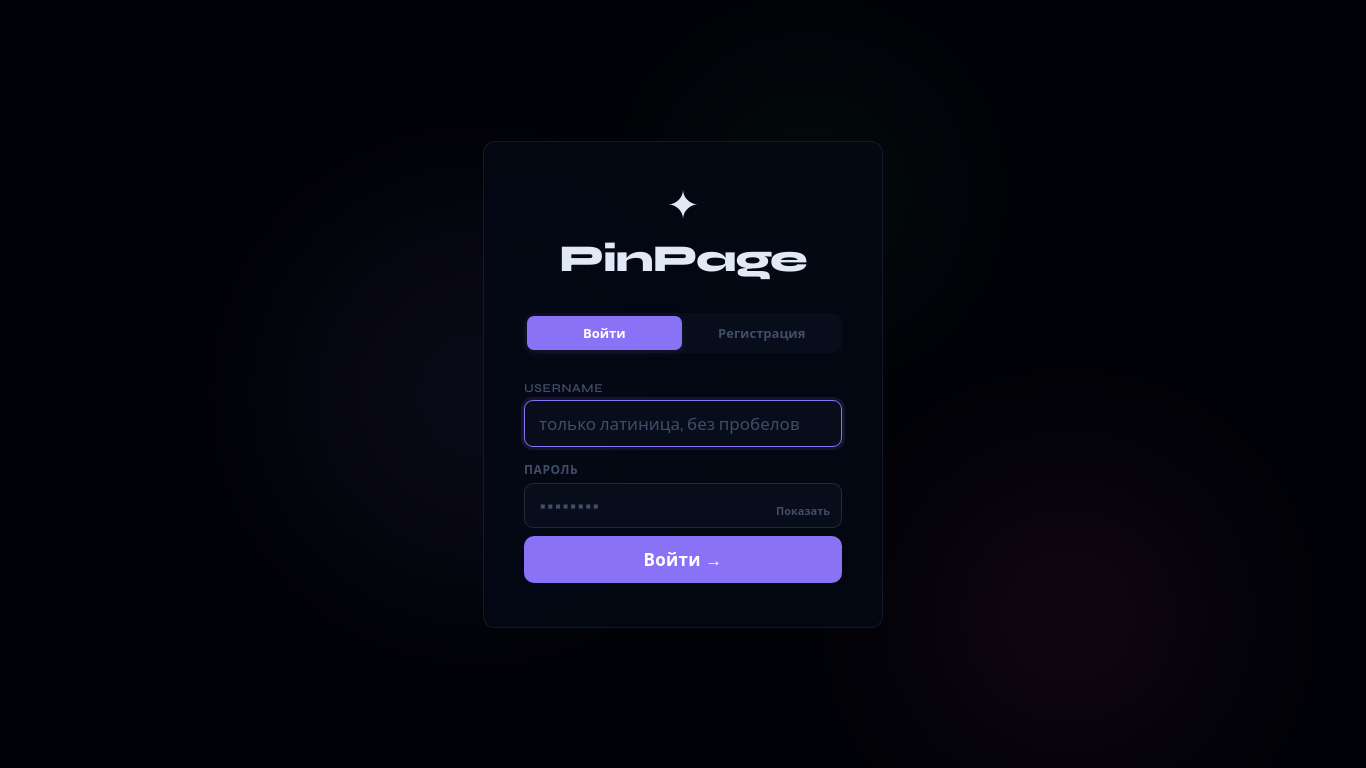
Scenario: вход и регистрация › вход с верным паролем открывает стену
The image size is (1366, 768).
Check: the button "Войти →" is shown, box x1=524 y1=536 x2=842 y2=582
Type "nova" into the field with placeholder "только латиница, без пробелов" at (683, 423), box x1=524 y1=400 x2=842 y2=446
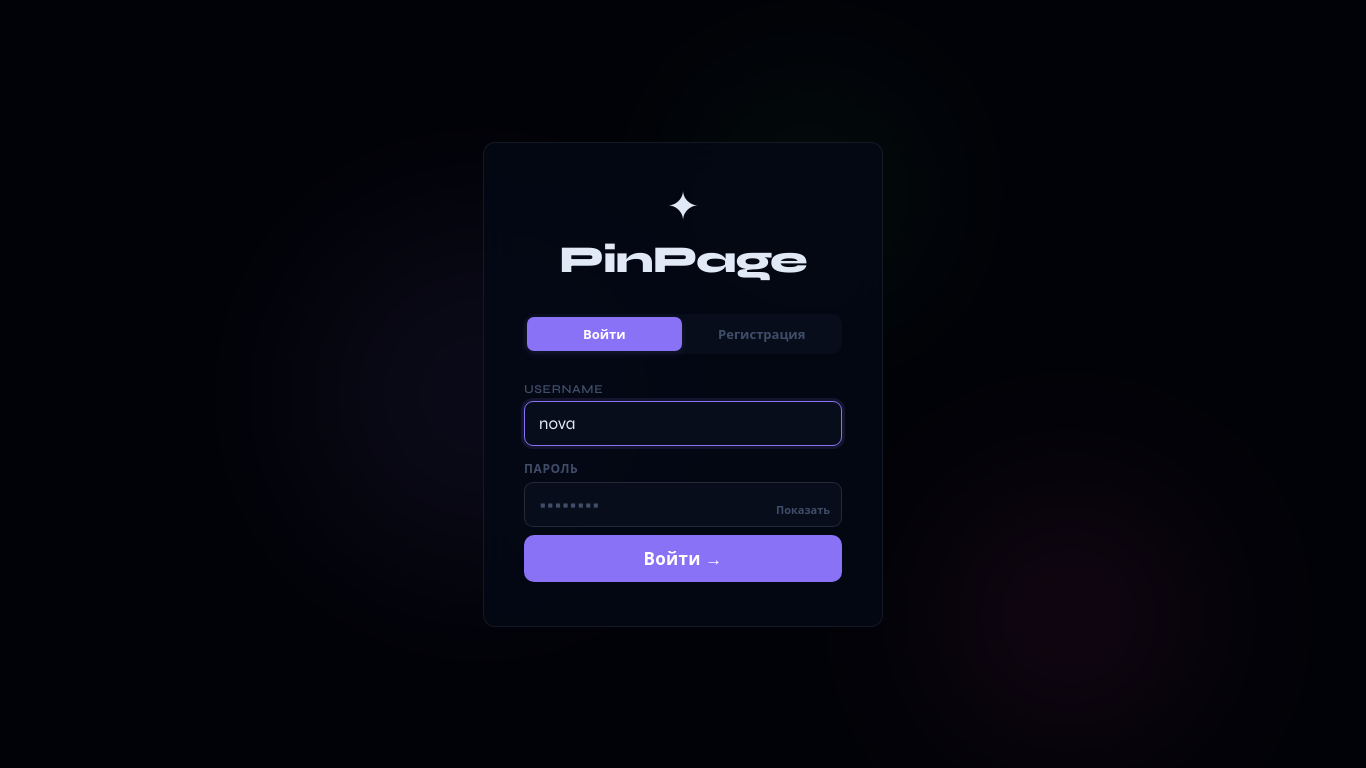
Type "secret1" into the password field with placeholder "••••••••" at (683, 504), box x1=524 y1=482 x2=842 y2=526
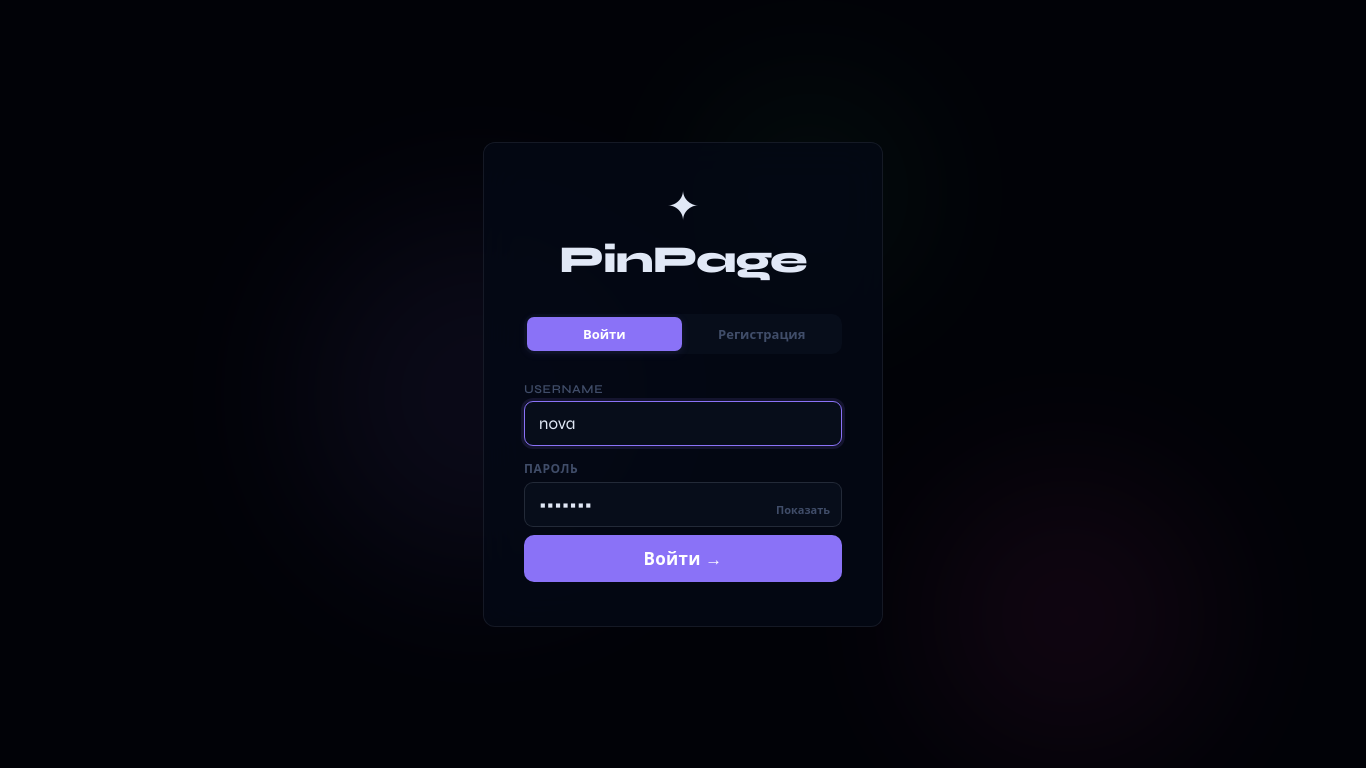
Click the button "Войти →" at (683, 558), box x1=524 y1=534 x2=842 y2=582
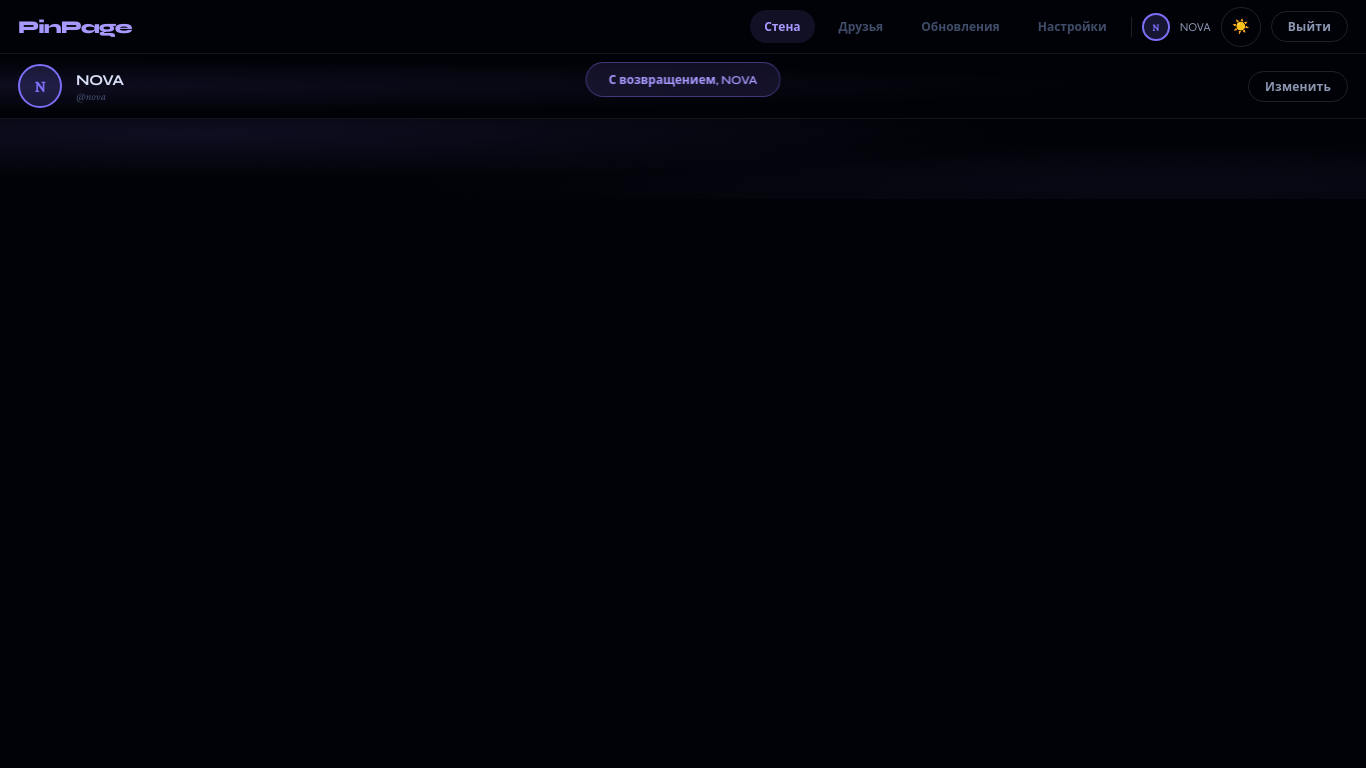
Check: the 1st text "NOVA" is shown, box x1=1180 y1=20 x2=1211 y2=34
Check: the button "Стена" is shown, box x1=750 y1=10 x2=815 y2=43
